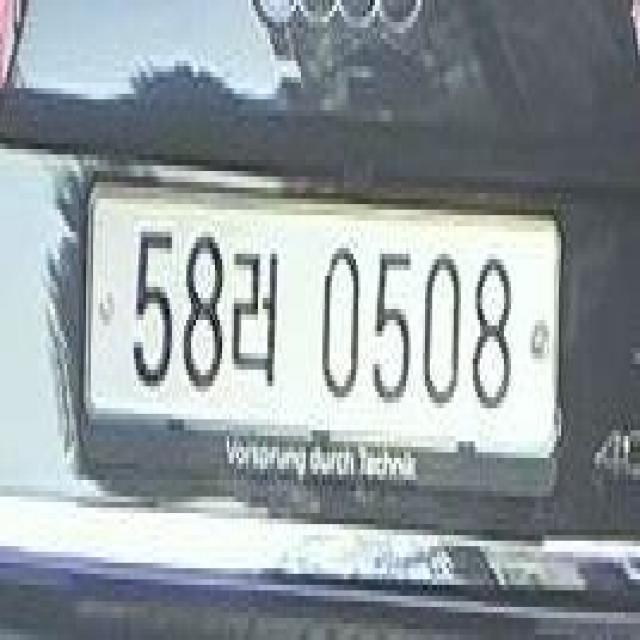0: (316, 221, 366, 403), (420, 230, 466, 408)
5: (125, 212, 173, 388), (370, 235, 413, 403)
8: (182, 212, 227, 392), (471, 231, 514, 412)
leo: (232, 218, 281, 396)
license_plate: (78, 166, 566, 514)
